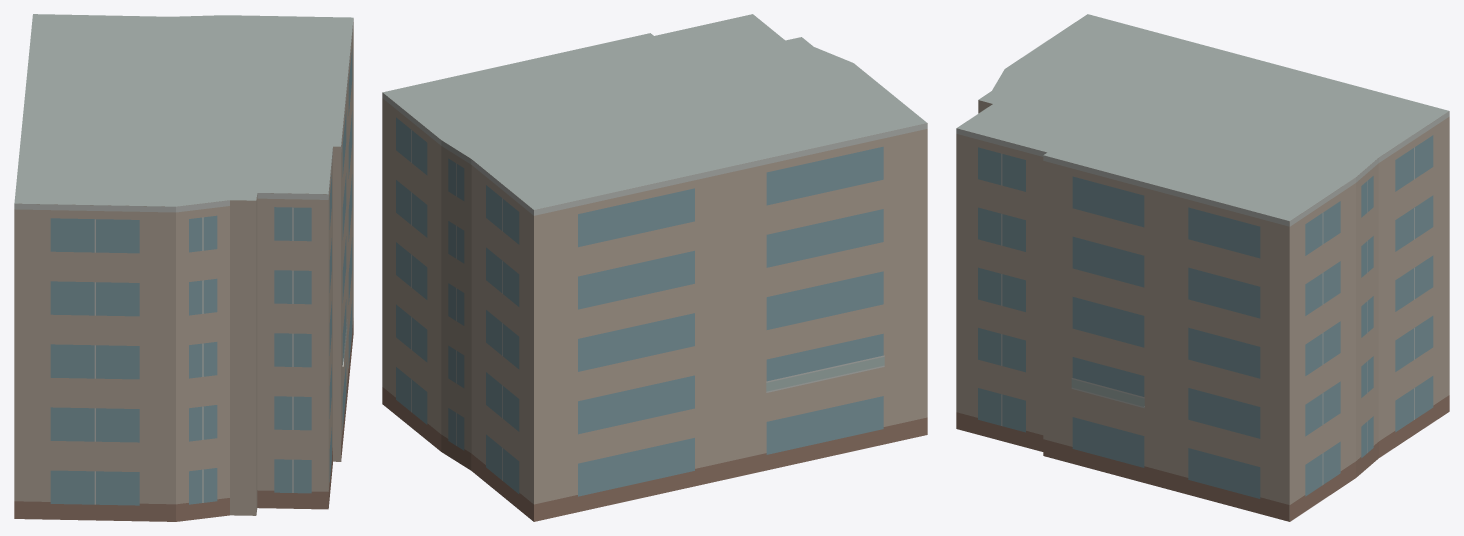
File: survey-upis-32618766.glb
3 views of the same model, side by side, from view 1: azimuth 30°, elevation 25°; view 2: azimuth 150°, elevation 25°; view 3: azimuth 270°, elevation 25° (orthographic). The views are drawn at different scales.
Visible parts, largest first — view 1: survey-upis-32618766.tmp; view 2: survey-upis-32618766.tmp; view 3: survey-upis-32618766.tmp.
Part boxes in pixels (bbox=[...]): survey-upis-32618766.tmp: bbox=[14, 14, 353, 521]; survey-upis-32618766.tmp: bbox=[382, 14, 927, 521]; survey-upis-32618766.tmp: bbox=[956, 14, 1449, 521].
Size of the model in its own units: 19.52 by 13.2 by 19.63.
